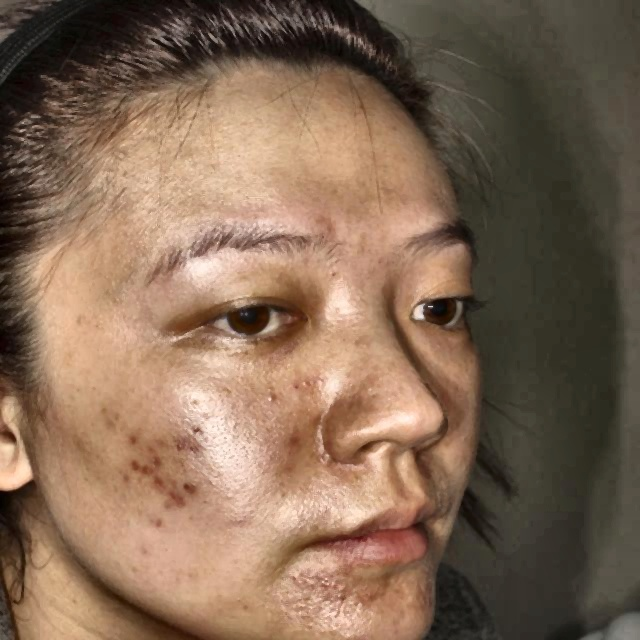pustule: (166, 490, 189, 514), (128, 458, 147, 485), (152, 469, 168, 495), (147, 439, 163, 464), (280, 426, 302, 444), (123, 429, 139, 451)
